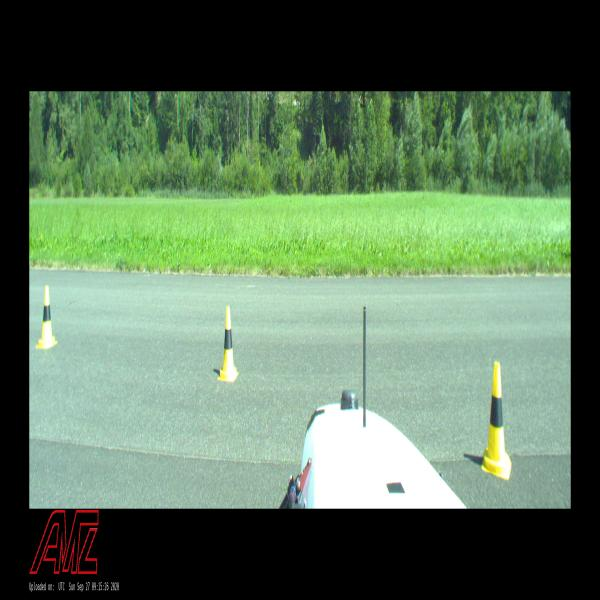yellow_cone: (482, 362, 512, 479), (218, 306, 238, 382), (36, 286, 57, 348)
